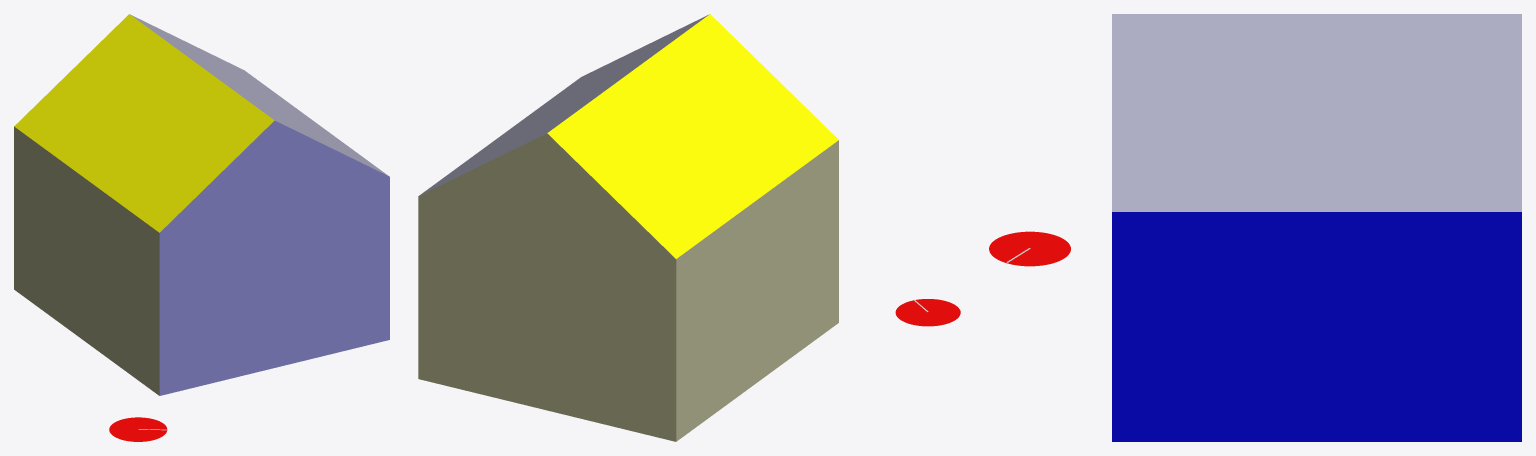
File: result.glb
3 renders of one model, left to right at view 1: azimuth 30°, elevation 25°; view 2: azimuth 150°, elevation 25°; view 3: azimuth 270°, elevation 25°, orthographic. The views are drawn at different scales.
Visible parts, largest first — view 1: 9462c88b-f36b-4fa7-95aa-7b354601df6d__undefined, 7708e49d-4a69-476b-984d-4268936bd2e8__undefined, f848b253-160e-4873-9b95-e3efab454f43__undefined, 7a35b5ed-c80a-4ad6-84f5-0abcfbc82515__undefined, c83ef99f-ea06-415b-b86f-27a057c1a77c__Circle; view 2: 23e02505-6444-4e84-864c-19fc1a2de1c9__undefined, 7708e49d-4a69-476b-984d-4268936bd2e8__undefined, f848b253-160e-4873-9b95-e3efab454f43__undefined, 7a35b5ed-c80a-4ad6-84f5-0abcfbc82515__undefined, c83ef99f-ea06-415b-b86f-27a057c1a77c__Circle; view 3: 13613427-e59f-4174-99ef-dadad19437f9__undefined, 7a35b5ed-c80a-4ad6-84f5-0abcfbc82515__undefined, c83ef99f-ea06-415b-b86f-27a057c1a77c__Circle.
Boxes of the visible parts, x1,y1,x2,y2 form: 9462c88b-f36b-4fa7-95aa-7b354601df6d__undefined: [159, 120, 389, 395]; 7708e49d-4a69-476b-984d-4268936bd2e8__undefined: [14, 14, 274, 232]; f848b253-160e-4873-9b95-e3efab454f43__undefined: [14, 126, 159, 395]; 7a35b5ed-c80a-4ad6-84f5-0abcfbc82515__undefined: [130, 14, 388, 175]; c83ef99f-ea06-415b-b86f-27a057c1a77c__Circle: [109, 417, 167, 441]; 23e02505-6444-4e84-864c-19fc1a2de1c9__undefined: [418, 133, 676, 441]; 7708e49d-4a69-476b-984d-4268936bd2e8__undefined: [547, 14, 838, 258]; f848b253-160e-4873-9b95-e3efab454f43__undefined: [676, 140, 838, 441]; 7a35b5ed-c80a-4ad6-84f5-0abcfbc82515__undefined: [419, 14, 709, 195]; c83ef99f-ea06-415b-b86f-27a057c1a77c__Circle: [895, 299, 960, 326]; 13613427-e59f-4174-99ef-dadad19437f9__undefined: [1112, 212, 1521, 441]; 7a35b5ed-c80a-4ad6-84f5-0abcfbc82515__undefined: [1112, 14, 1521, 211]; c83ef99f-ea06-415b-b86f-27a057c1a77c__Circle: [989, 231, 1070, 266].
Bounding box in the file's own units: 607 × 469 × 650.
